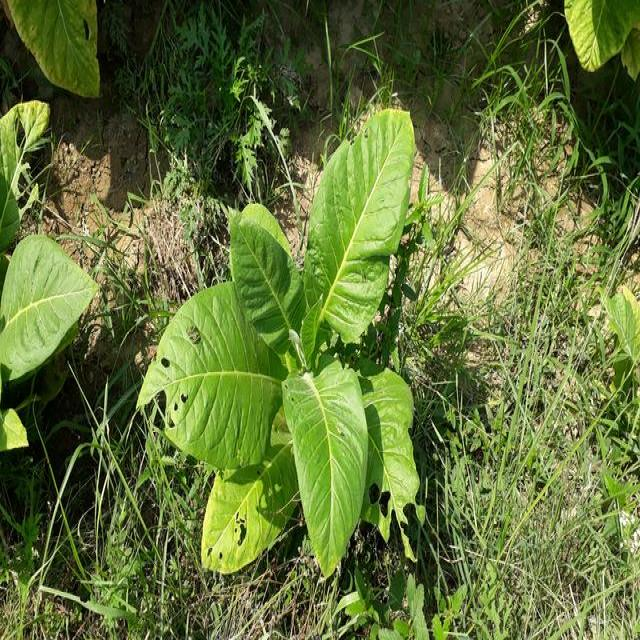crop: (144, 116, 446, 574)
